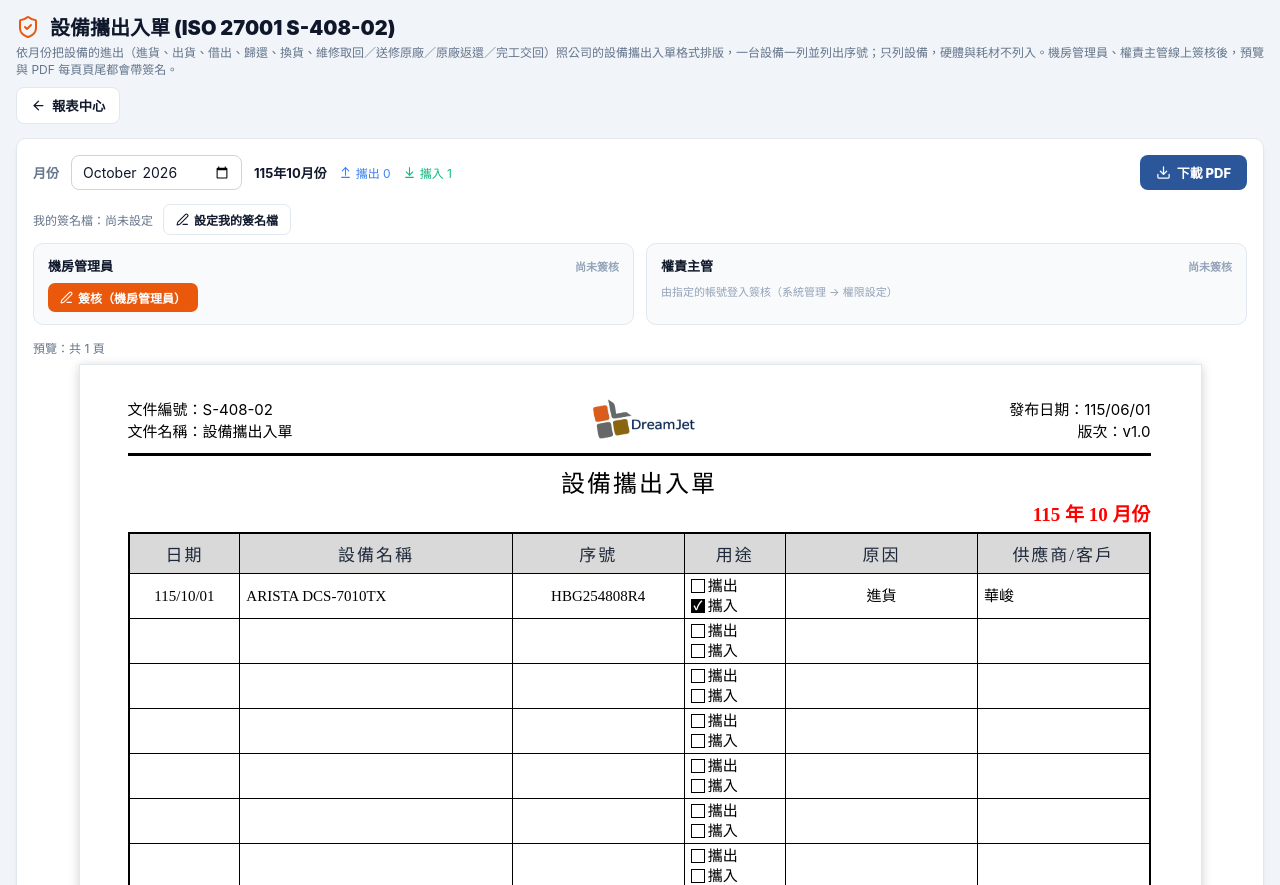
Test case: 線上簽核 › 有權限的人：彈出簽名視窗，簽了才能確認；送出簽名後重新讀取狀態
Expected: the 1st text "尚未簽核" is shown, left=575, top=258, right=619, bottom=274
Click the button "簽核（機房管理員）" at (123,298), box left=48, top=283, right=198, bottom=312
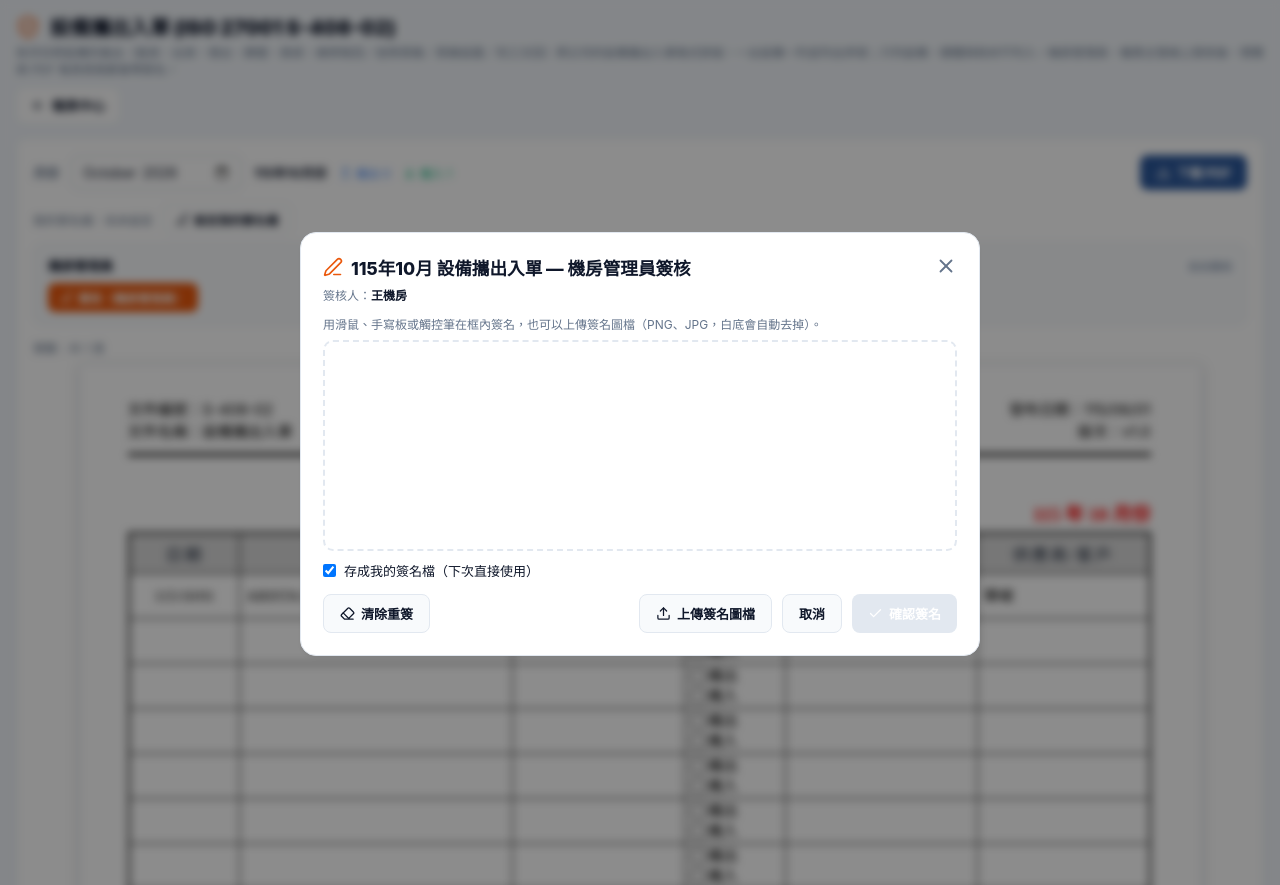
Expected: the text "王機房" is shown, left=371, top=288, right=407, bottom=303
Expected: the button "確認簽名" is disabled, left=852, top=594, right=957, bottom=633
Press the mouse on the drawing named "簽名板" at (640,445), box left=323, top=340, right=957, bottom=551
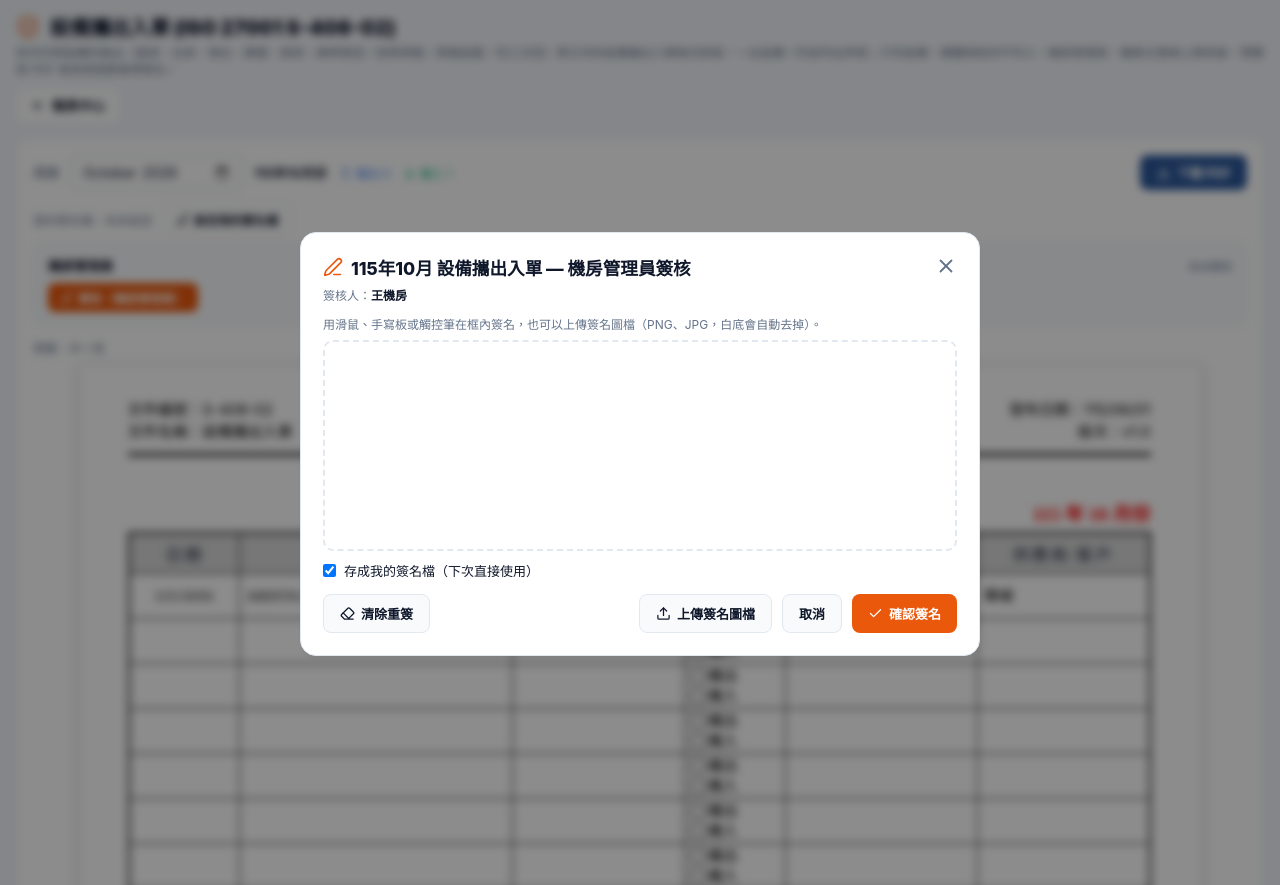
Expected: the checkbox labelled "存成我的簽名檔（下次直接使用）" is checked, left=323, top=564, right=336, bottom=577
Expected: the button "確認簽名" is enabled
Click the button "確認簽名" at (904,614), box left=852, top=594, right=957, bottom=633
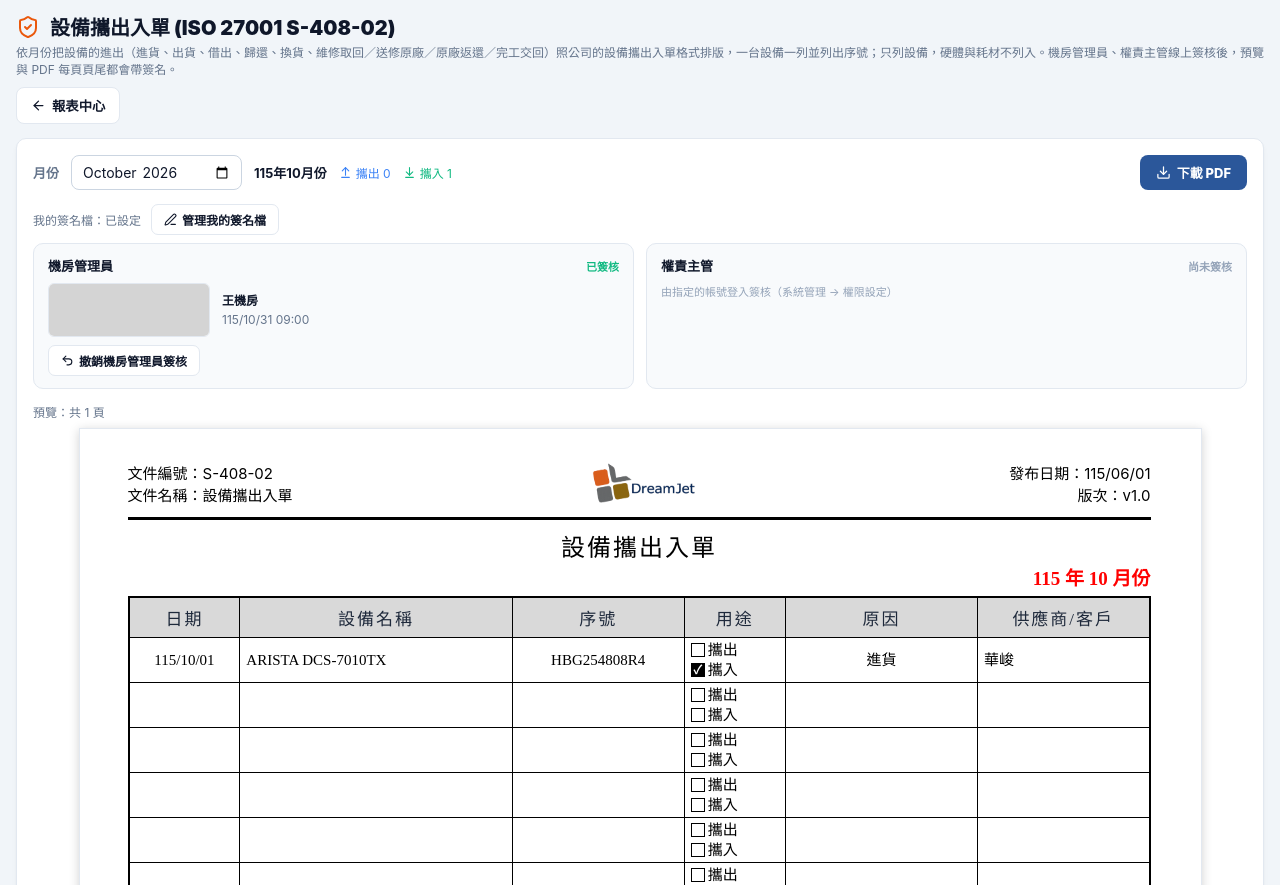
Expected: the dialog is gone
Expected: the text "已簽核" is shown, left=586, top=258, right=619, bottom=274
Expected: the button "簽核（機房管理員）" is gone
